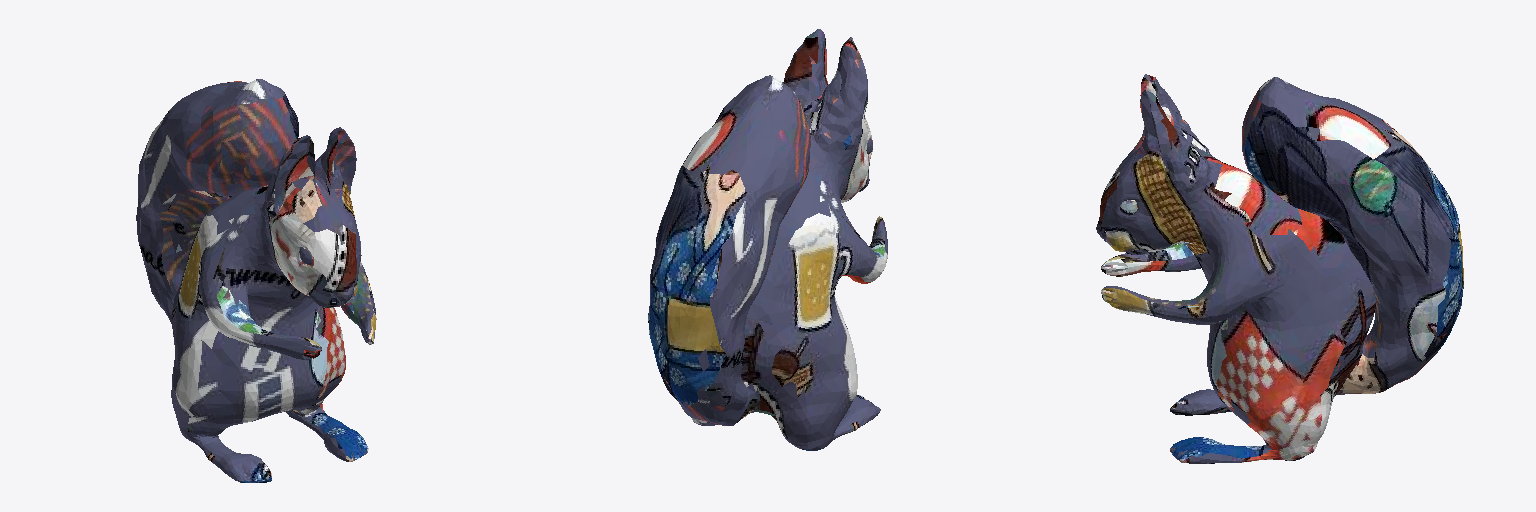
3 views of the same model, side by side, from view 1: azimuth 30°, elevation 25°; view 2: azimuth 150°, elevation 25°; view 3: azimuth 270°, elevation 25° (orthographic).
Parts seen in each view (by area): view 1: Squirrel.002; view 2: Squirrel.002; view 3: Squirrel.002.
Boxes of the visible parts, x1,y1,x2,y2 form: Squirrel.002: [136, 79, 376, 482]; Squirrel.002: [648, 29, 887, 450]; Squirrel.002: [1096, 74, 1463, 463].
Size of the model in its own units: 2.34 by 4.92 by 4.59.
Materials: 1 (1 with a texture image).